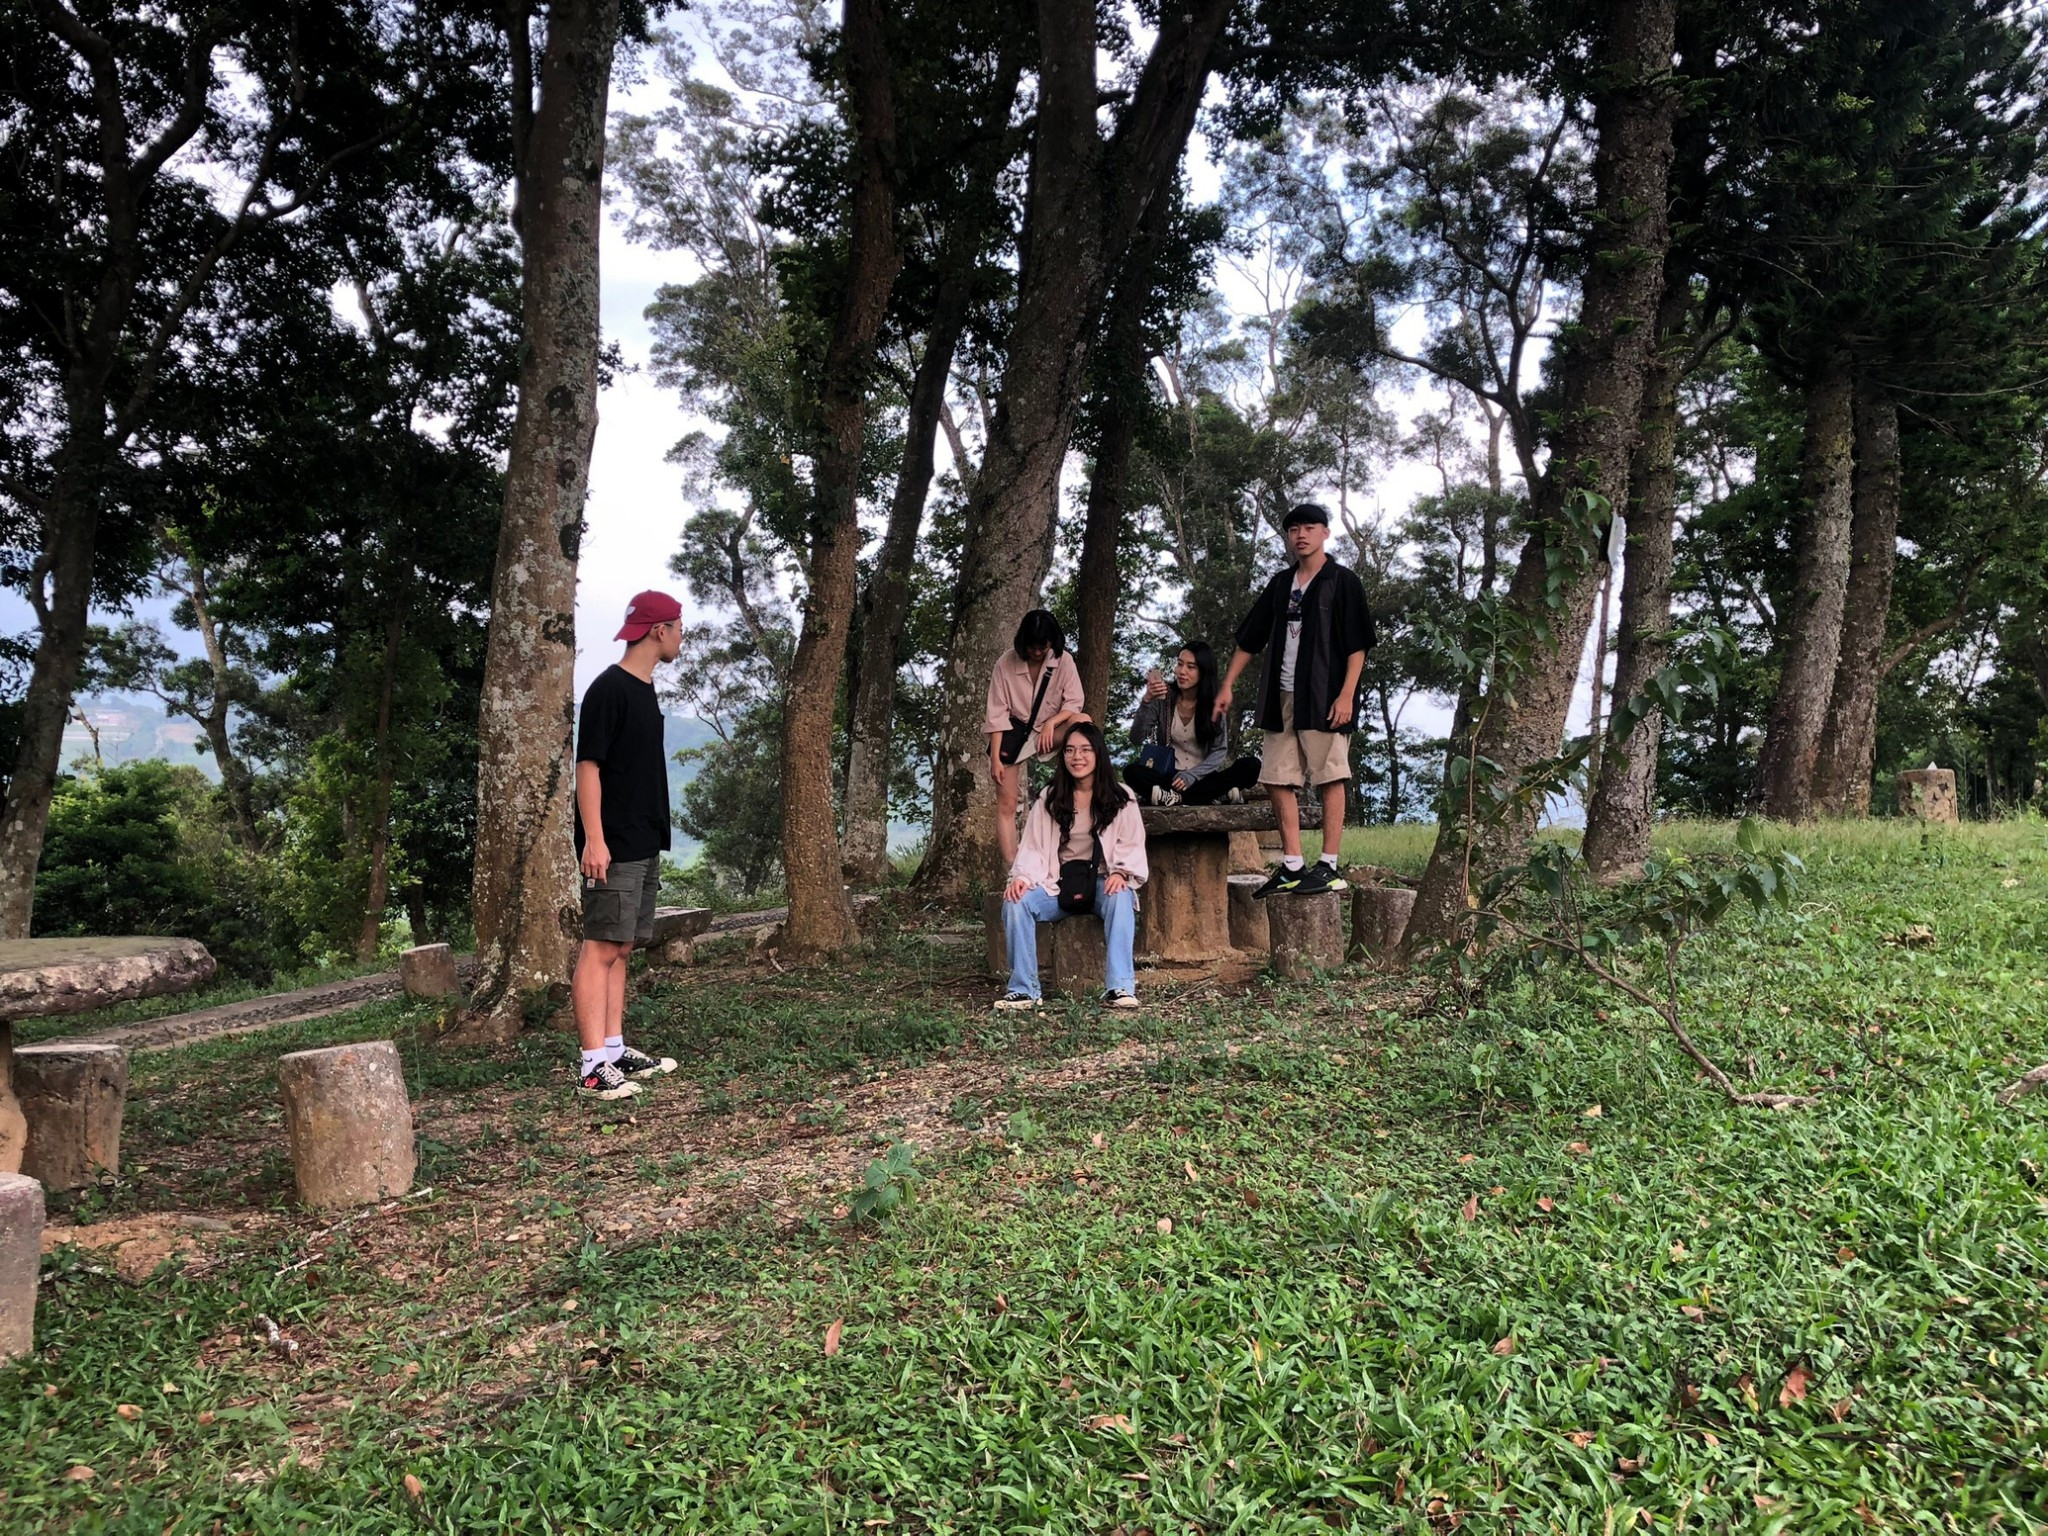people: (569, 596, 672, 1093), (1269, 508, 1366, 908), (1037, 734, 1140, 1008), (999, 613, 1087, 846), (1146, 646, 1237, 808)
